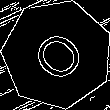O_SE: (24, 21, 91, 87)
